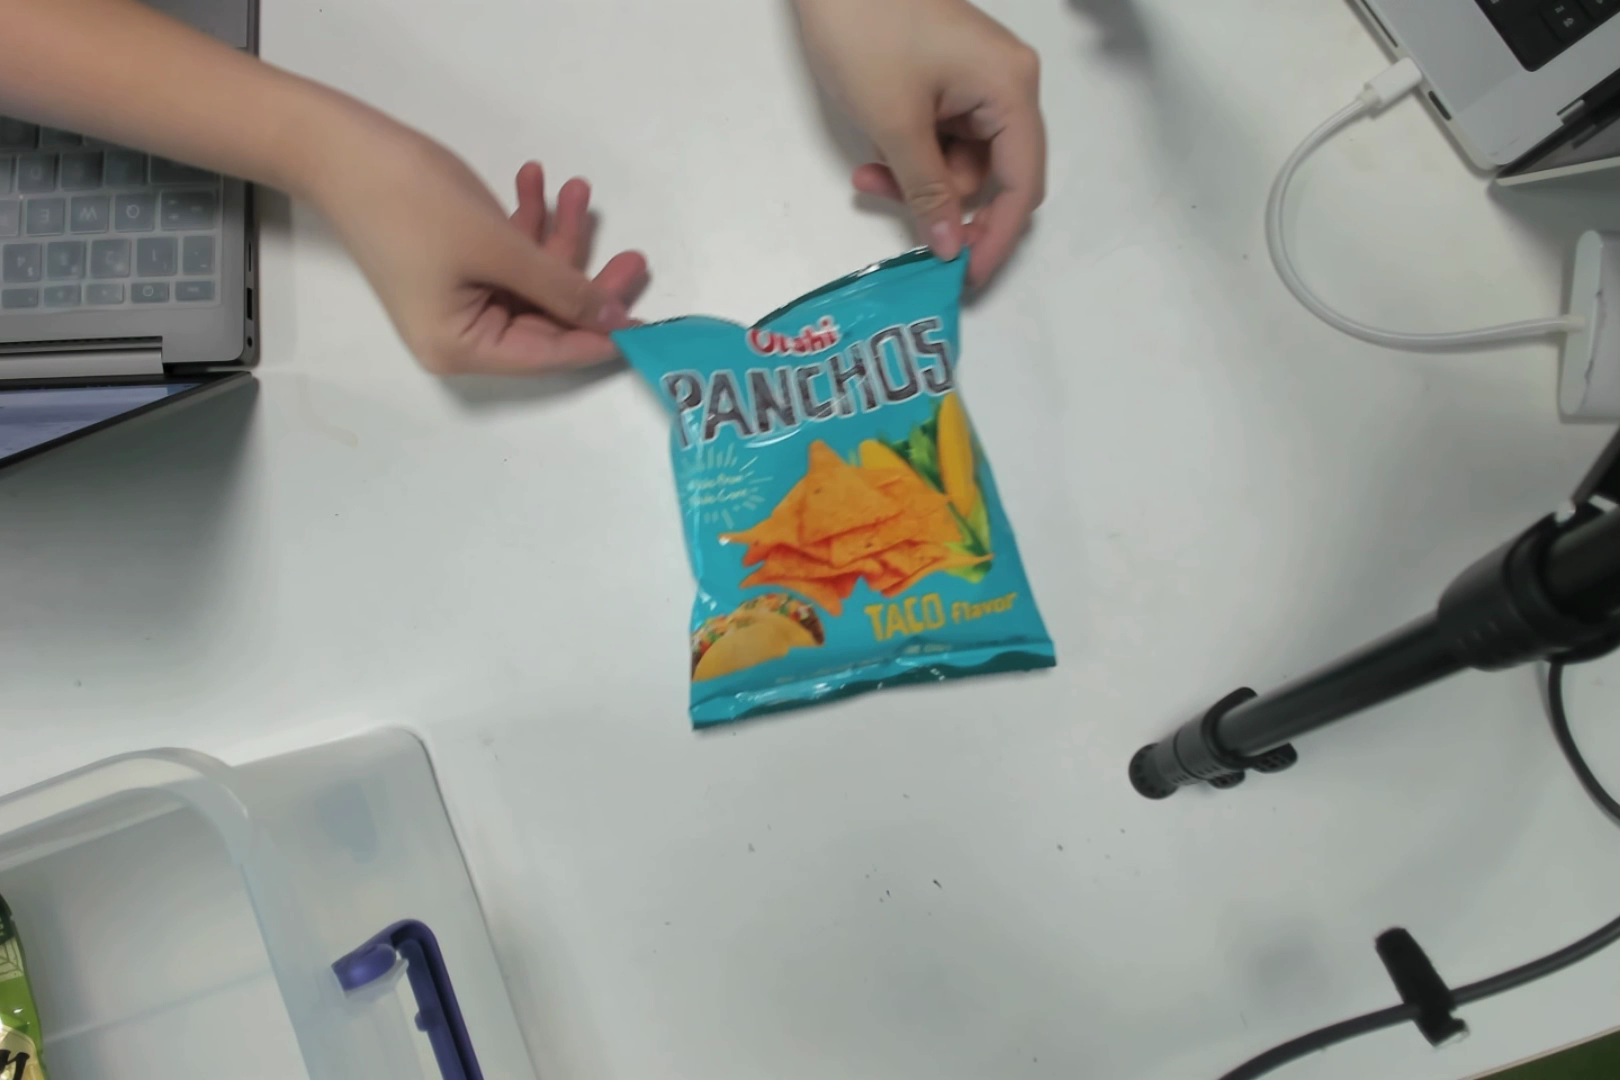PotatochipsKeropok_1-99g_NonHalal_NonHealthy: (683, 324, 1017, 687)
